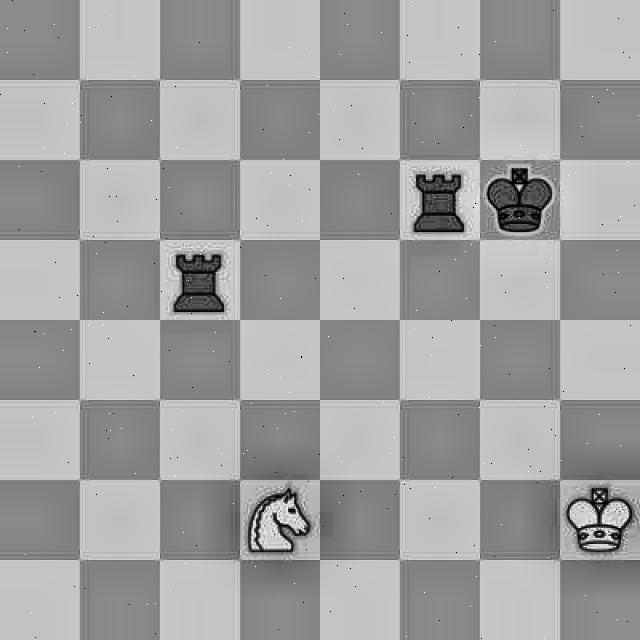black king: (481, 162, 558, 240)
black rook: (160, 234, 246, 322), (406, 166, 474, 242)
white king: (566, 482, 638, 556)
whiteknight: (239, 483, 323, 563)
